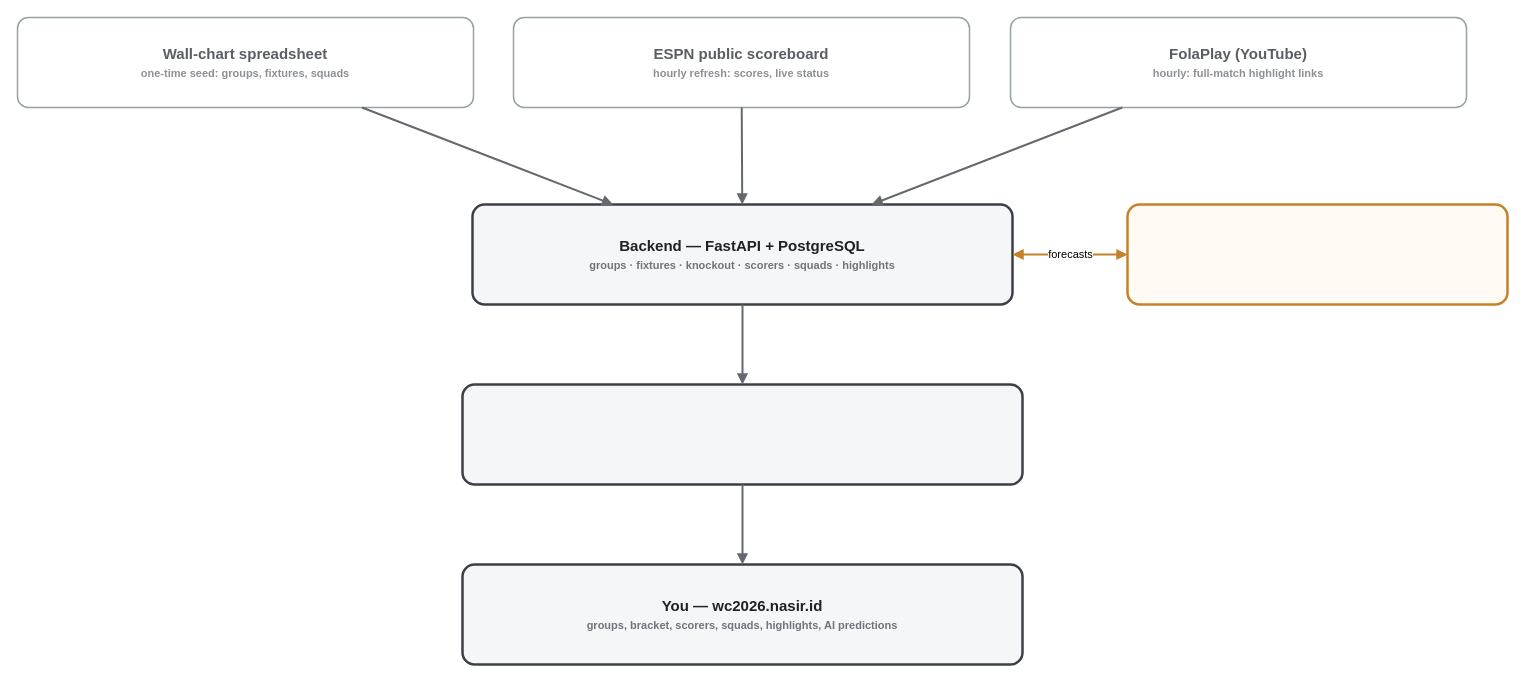
This 1526x683 diagram has some shape labels left out. Here are the shapes that lost their labels. From the top down, the centre of each, then its label:
At (1317,254): "AI Predictions Claude, OpenRouter as fallback — daily".
At (742,434): "Frontend — Next.js server-rendered, revalidates every 5 minutes".
